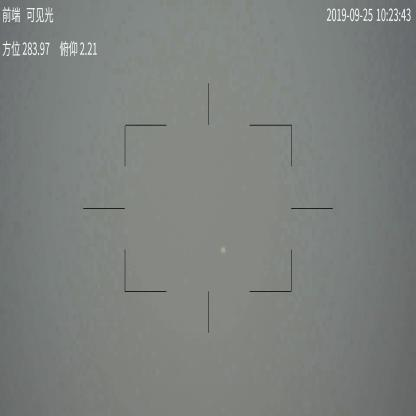uav: (219, 246, 227, 254)
